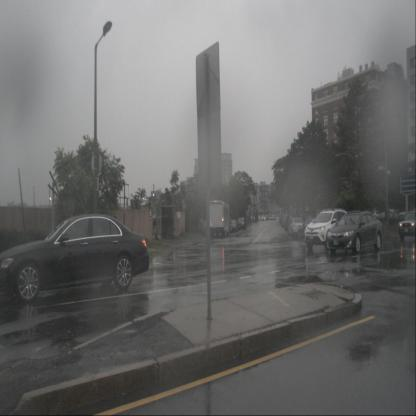vehicle-car: (0, 213, 149, 303), (328, 211, 384, 255), (305, 210, 346, 249), (398, 209, 416, 242), (298, 216, 314, 238), (290, 216, 305, 235), (238, 216, 247, 231), (230, 218, 238, 233)
vehicle-truck: (209, 200, 230, 238)
